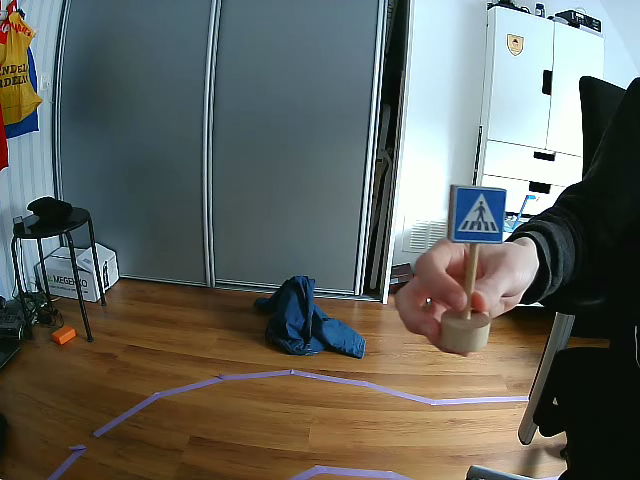zebrapad: (452, 186, 505, 245)
